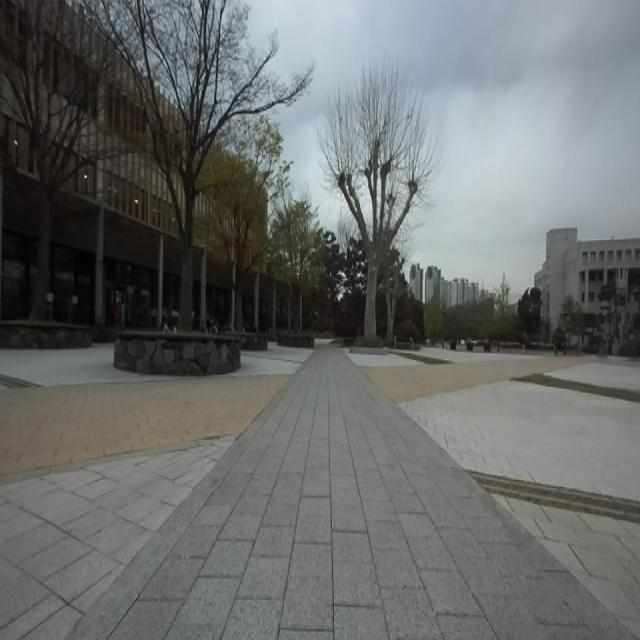sidewalk: (72, 348, 631, 639)
